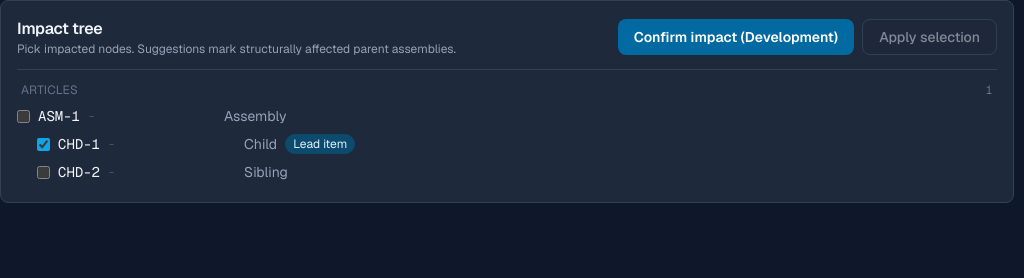
Test: ImpactTree › renders nodes and marks suggested parents when selection changes
The image size is (1024, 278).
Expected: the text "Child" is shown, x1=244 y1=134 x2=277 y2=154
Click the checkbox named "Sibling".
click(44, 172)  # box x1=37 y1=166 x2=50 y2=178
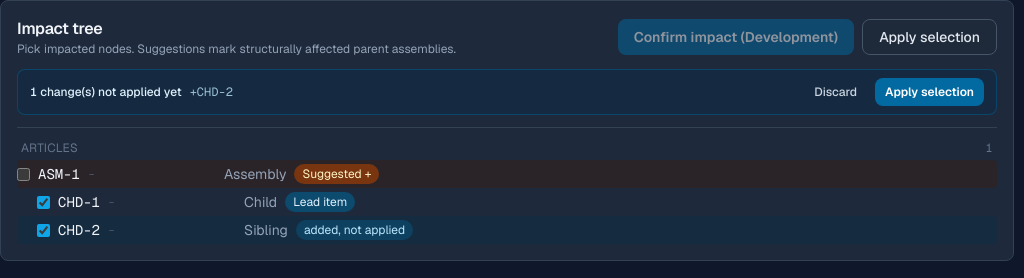
Expected: the button "Suggested +" is shown, x1=294 y1=164 x2=379 y2=184
